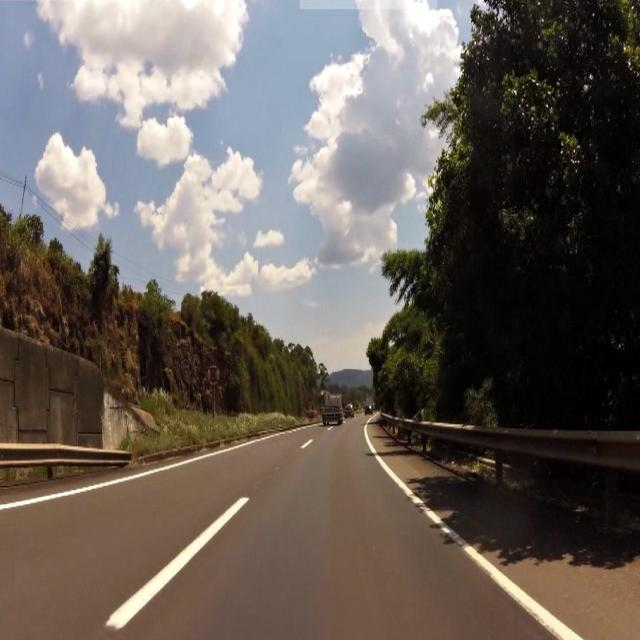R-6a: (207, 364, 221, 392)
